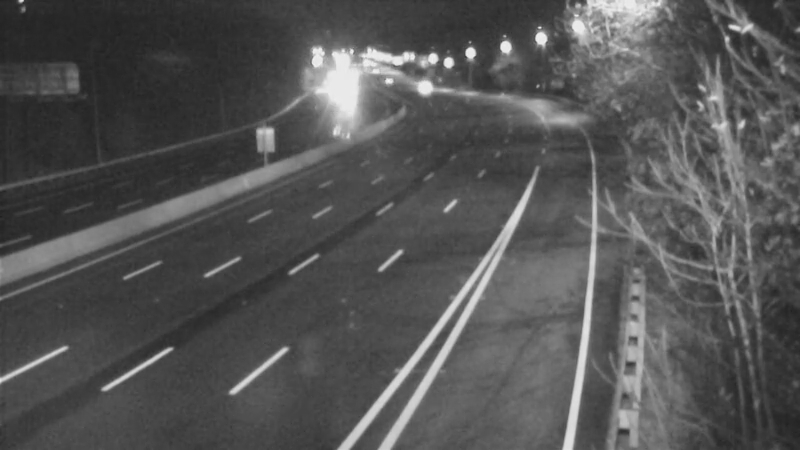vehicle: (362, 55, 412, 105), (394, 63, 444, 113), (321, 78, 371, 128)
